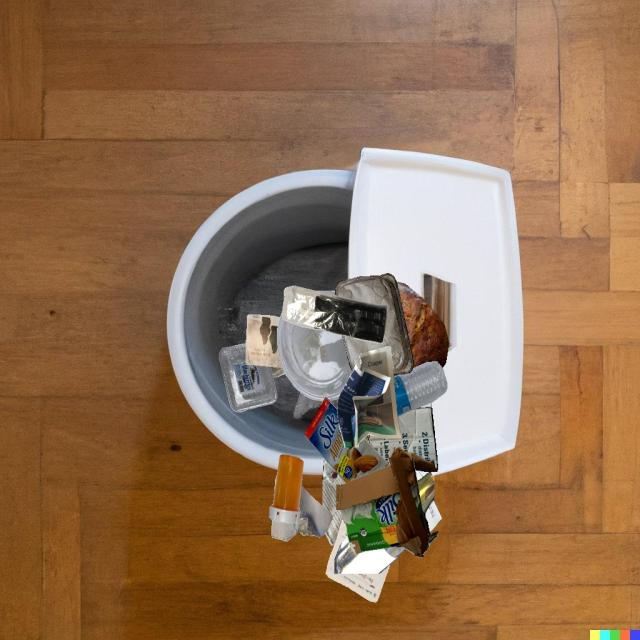biowaste: (396, 282, 449, 369)
cardboard: (336, 458, 439, 557), (304, 397, 389, 483), (368, 407, 438, 472), (416, 402, 432, 408), (364, 435, 369, 442)
glass: (334, 536, 405, 574), (417, 472, 434, 514), (271, 367, 285, 377)
metal: (335, 273, 414, 374)
paper: (337, 346, 401, 447), (336, 442, 421, 511), (326, 519, 390, 602), (271, 485, 333, 542), (246, 314, 283, 368)
plastic: (277, 312, 352, 401), (282, 286, 387, 344), (219, 343, 277, 412), (394, 361, 447, 417), (269, 454, 304, 524), (322, 505, 322, 506)
